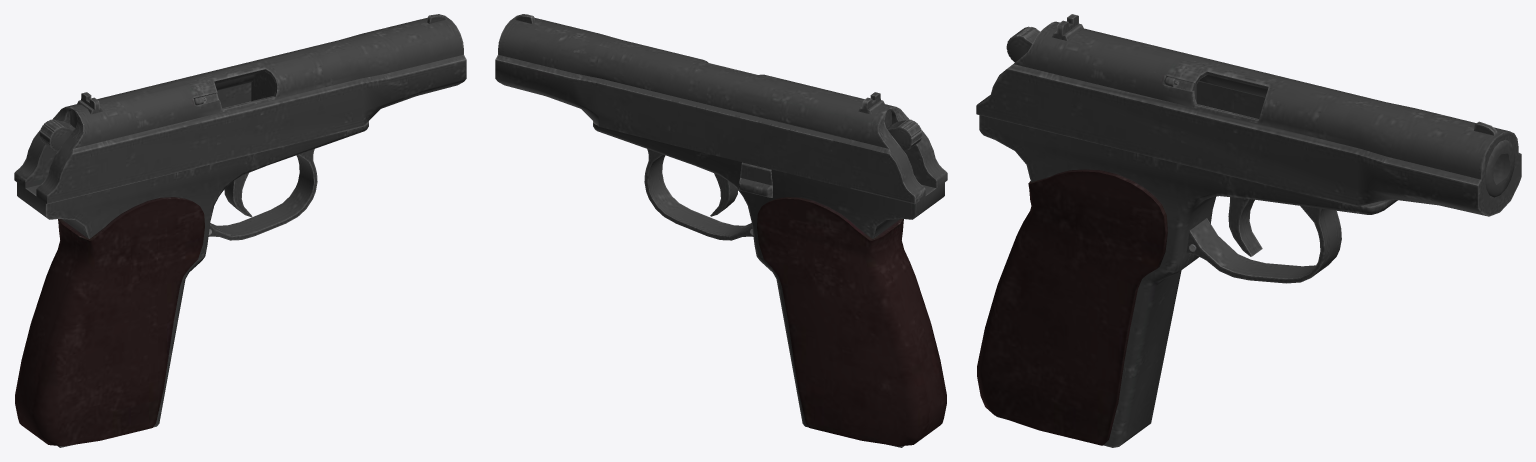
The model's file is Makarov.glb.
The picture shows the model from 3 angles, left to right: view 1: azimuth 30°, elevation 25°; view 2: azimuth 150°, elevation 25°; view 3: azimuth 330°, elevation 25°; orthographic projection. The views are drawn at different scales.
Parts seen in each view (by area): view 1: Makarov; view 2: Makarov; view 3: Makarov.
Part boxes in pixels (x1=…): Makarov: x1=14, y1=14, x2=466, y2=447; Makarov: x1=495, y1=14, x2=947, y2=447; Makarov: x1=976, y1=14, x2=1521, y2=447.
Size of the model in its own units: 0.161 by 0.1201 by 0.024.
1 material, 1 textured.
